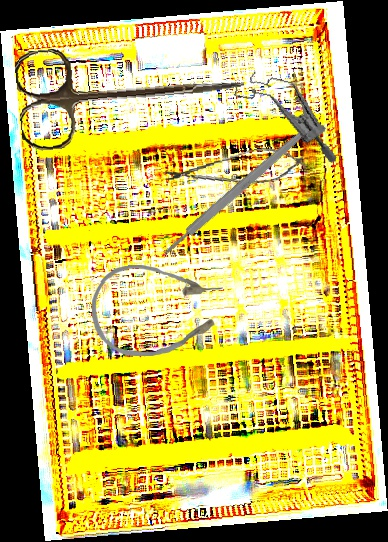Cannula: (91, 263, 224, 358)
Iris Scissors: (13, 29, 249, 153)
Micro Scissor: (160, 143, 309, 195)
Scalpel Handle: (160, 129, 306, 258)
Speculum: (217, 63, 354, 166)
